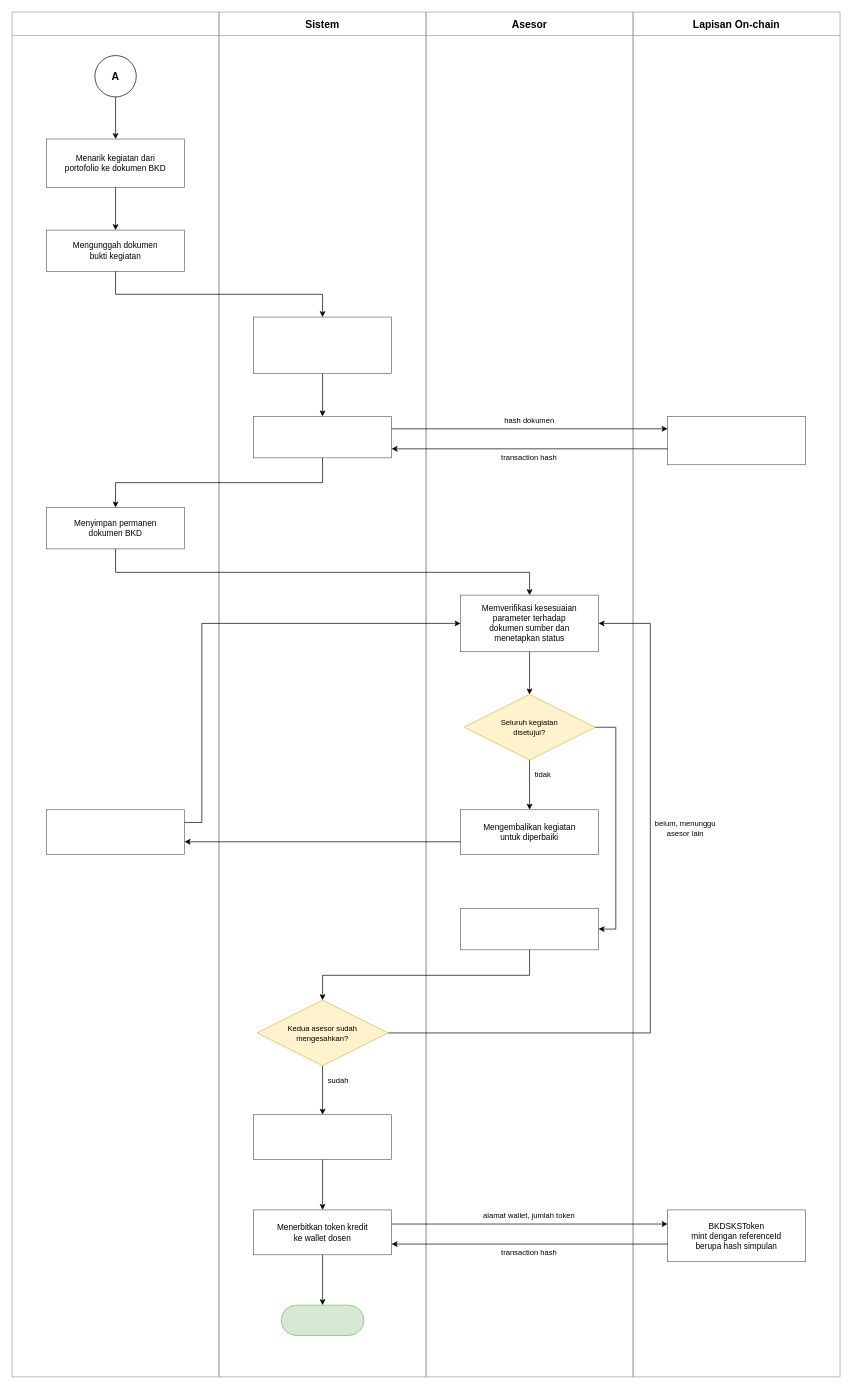
Some shapes in this 852 by 1389 pixel diagram are drawn without their labels. Each missing label, with the box of its shape:
BKDDokumenRegistri event DokumenTercatat: (667, 416, 806, 465)
Dosen: (11, 11, 219, 1377)
Membentuk simpulan BKD beserta hash penilaian: (253, 1114, 392, 1160)
Memeriksa keaslian bukti melalui layanan model bahasa visual dan menandai temuan: (253, 316, 392, 374)
Memperbaiki dokumen bukti kegiatan: (46, 809, 185, 855)
Mencatat jejak dokumen bukti ke kontrak registri: (253, 416, 392, 458)
Mengesahkan penilaian: (460, 908, 599, 950)
nilai ulang: (313, 609, 349, 620)
Selesai: (280, 1304, 364, 1335)
ya: (595, 713, 608, 723)
